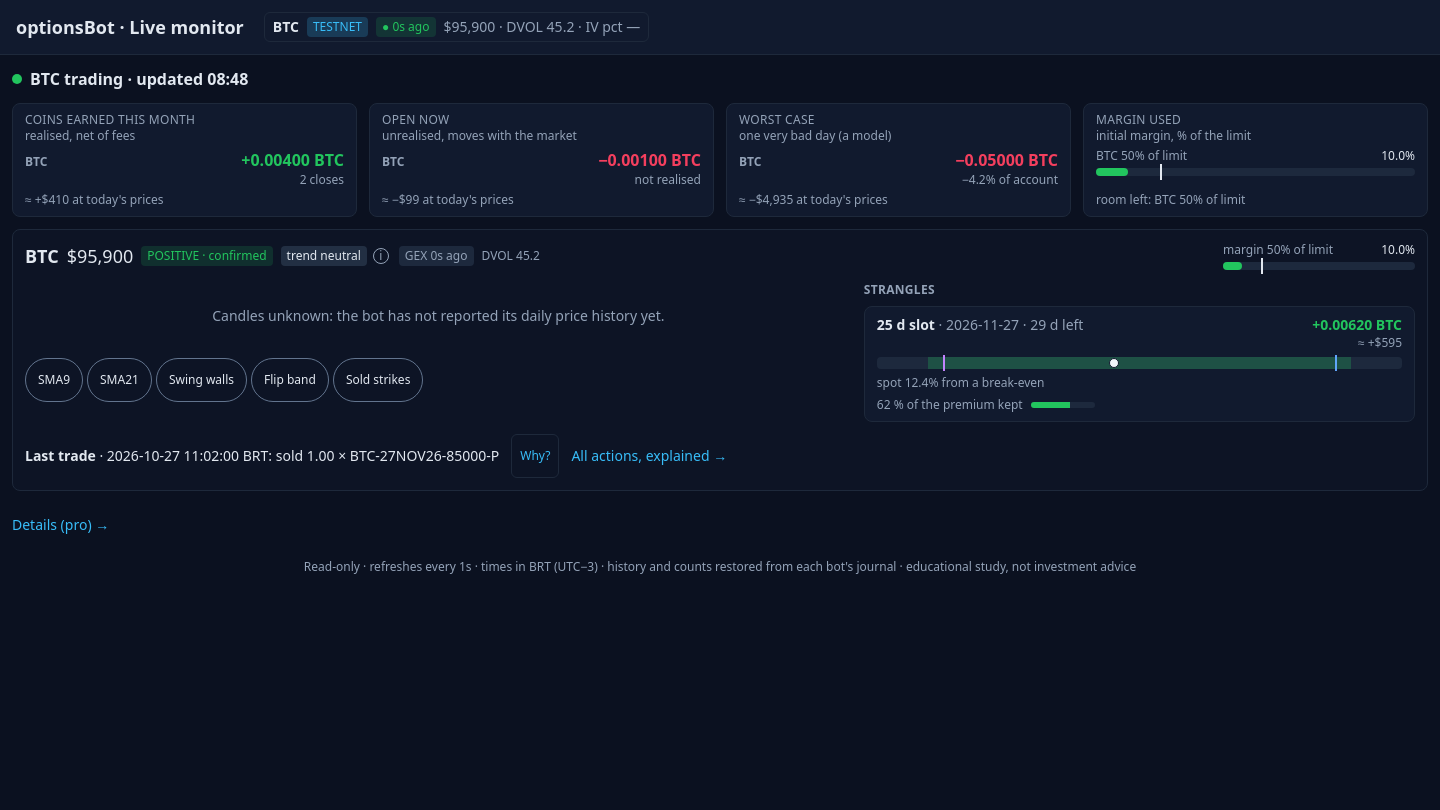
Scenario: Scenario: a profitable month › the result net of fees in coin and USD, the worst case in money, the positions and a Why on the last trade
Expected: the element "Coins earned this month" shows "net of fees", [25, 127, 135, 144]
Expected: the element "Coins earned this month" shows "≈ +$410 at today's prices", [25, 191, 164, 208]
Click the button "Why?": (535,456) [511, 434, 559, 478]
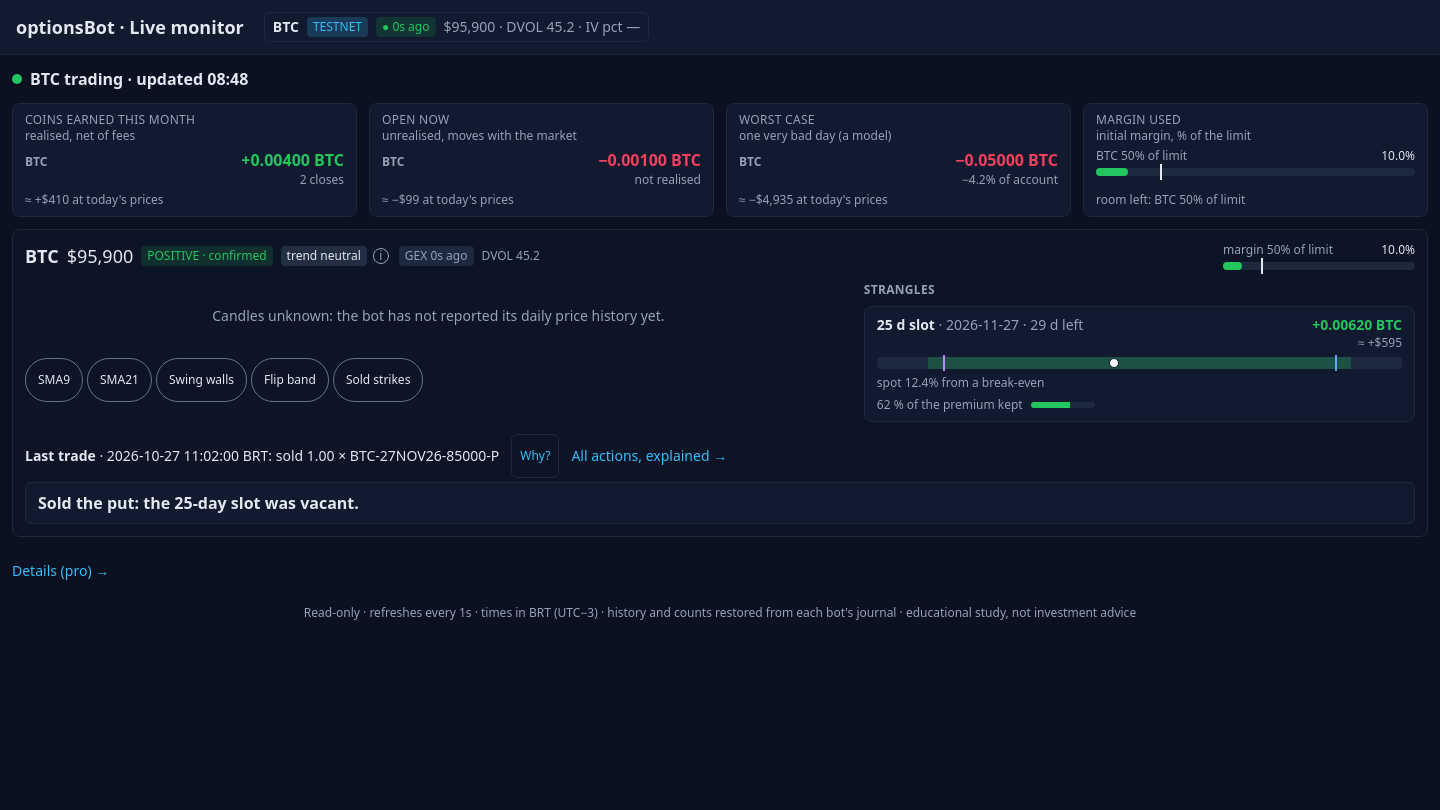
Result: the element with test id "last-trade-why" reads "Sold the put: the 25-day slot was vacant." at [38, 492, 359, 514]
